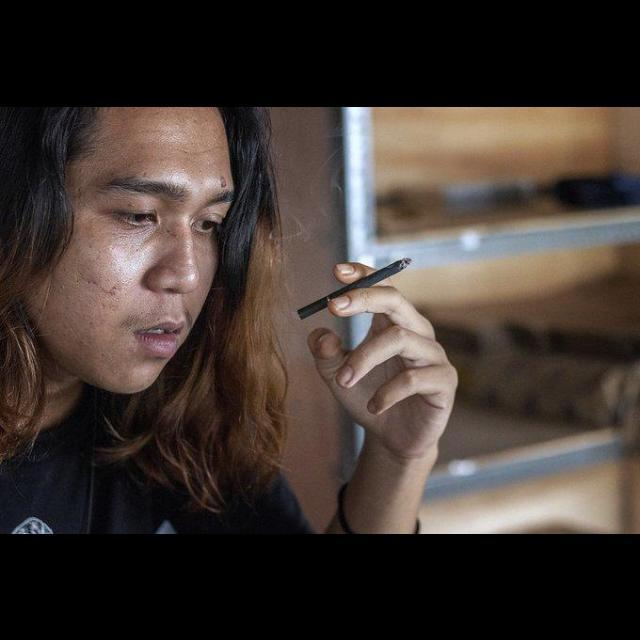rokok: (294, 254, 414, 318)
